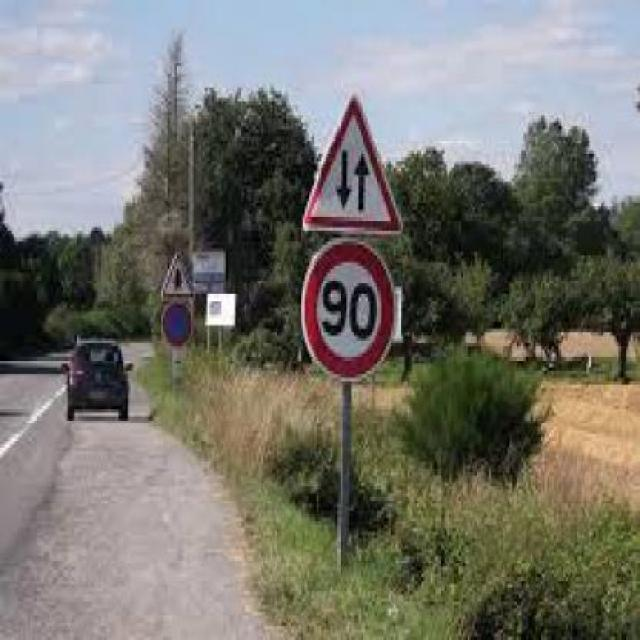Ograniczenie predkosci do 90: (303, 238, 396, 378)
